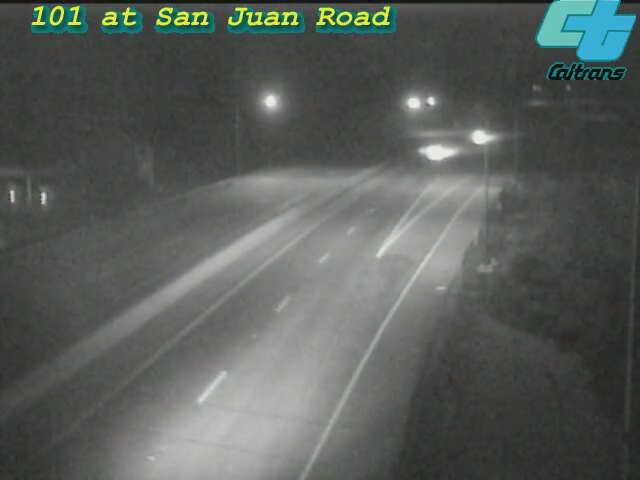vehicle: (452, 113, 502, 163), (417, 125, 467, 175)
